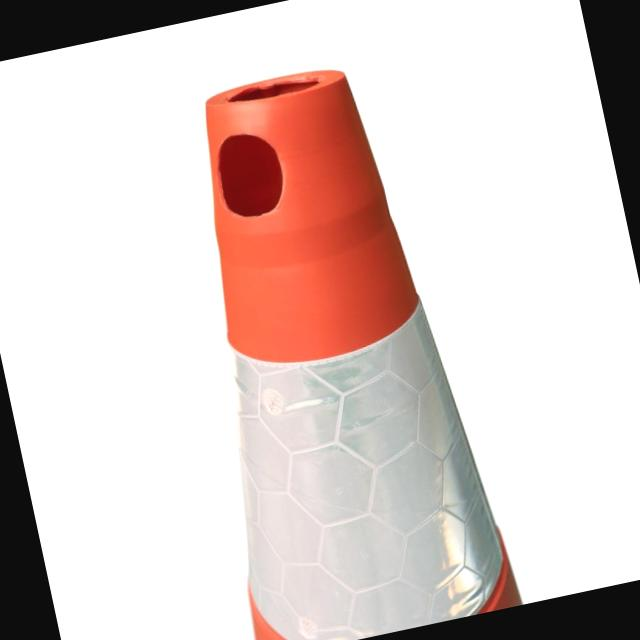cone: (134, 50, 529, 640)
